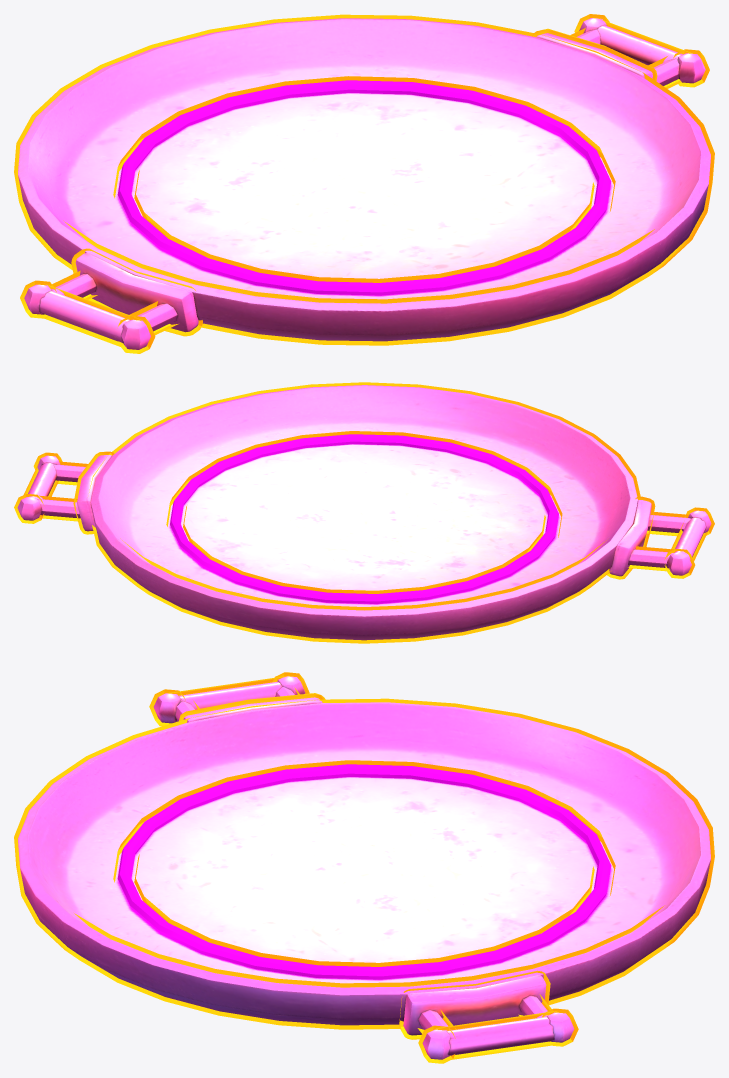
The model's file is Gold_Platter.glb.
The picture shows the model from 3 angles, top to bottom: view 1: azimuth 30°, elevation 25°; view 2: azimuth 150°, elevation 25°; view 3: azimuth 270°, elevation 25°; orthographic projection. The views are drawn at different scales.
Visible parts, largest first — view 1: Platter_Plate, Platter_Plate.001; view 2: Platter_Plate, Platter_Plate.001; view 3: Platter_Plate, Platter_Plate.001.
Part boxes in pixels (x1,y1,x2,y2): Platter_Plate: (18,18,710,349); Platter_Plate.001: (14,14,714,353); Platter_Plate: (17,385,711,640); Platter_Plate.001: (14,382,714,643); Platter_Plate: (18,676,710,1059); Platter_Plate.001: (14,672,714,1063).
Bounding box in the file's own units: 0.525 × 0.0369 × 0.4203.
2 materials, 1 textured.
